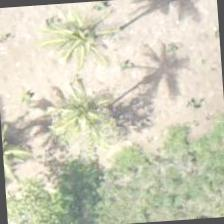Kelapa_Sawit: (38, 69, 134, 165), (29, 0, 125, 82), (0, 102, 54, 196)
